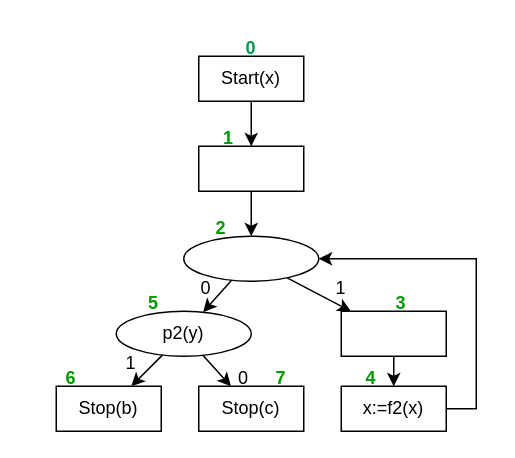
Image size: 515x458. Some labels were removed from this diagram. Here are the shapes that lost their labels. From the top down, the centre of each, then its label:
At [250,168]: "y:=a".
At [250,258]: "p1(x, y)".
At [393,333]: "y:=f1(x)".
